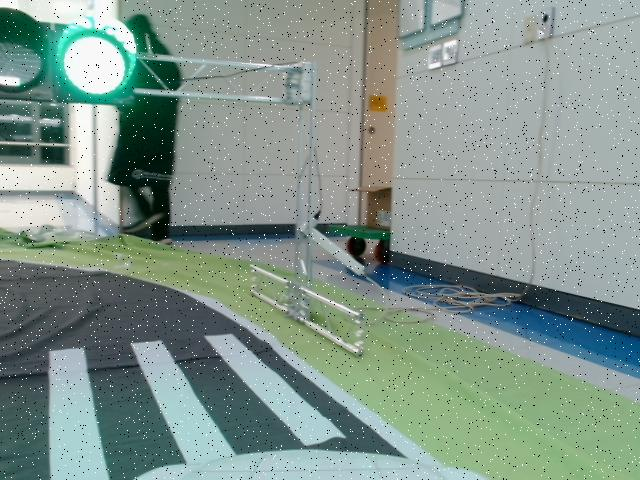crosswalk: (5, 330, 344, 480)
traffic light-green-: (2, 8, 135, 104)
